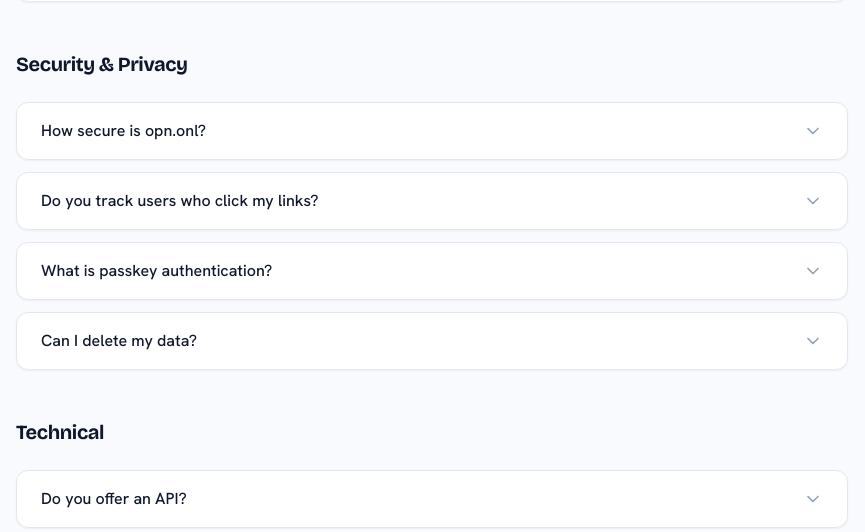
Test: FAQ › says a deleted link stops redirecting now and is removed after the default window
(page scrolled)
Click the button "Can I delete my data?" at (119, 340), box x1=17 y1=313 x2=847 y2=369
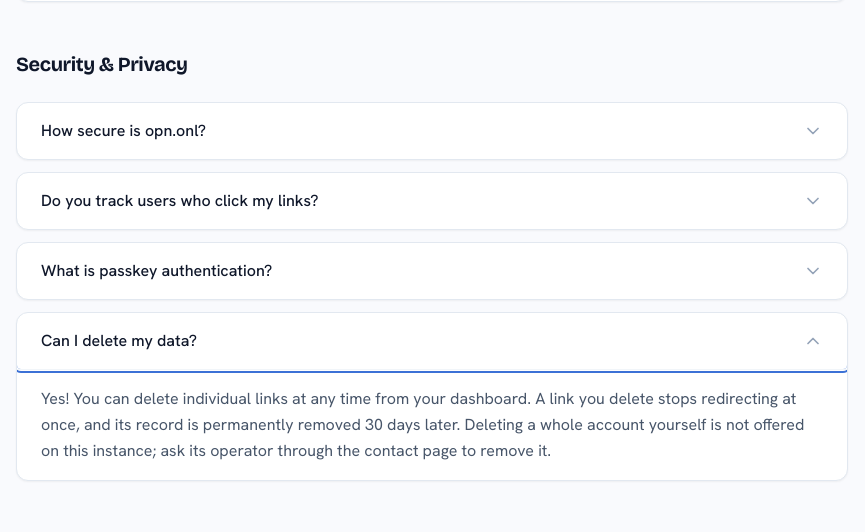
Expected: the text "stops redirecting at once" does not show "processed immediately", x1=17 y1=369 x2=847 y2=480
Expected: the text "stops redirecting at once" shows "permanently removed 30 days later", x1=41 y1=388 x2=804 y2=461
Expected: the text "stops redirecting at once" shows "not offered on this instance", x1=41 y1=388 x2=804 y2=461
